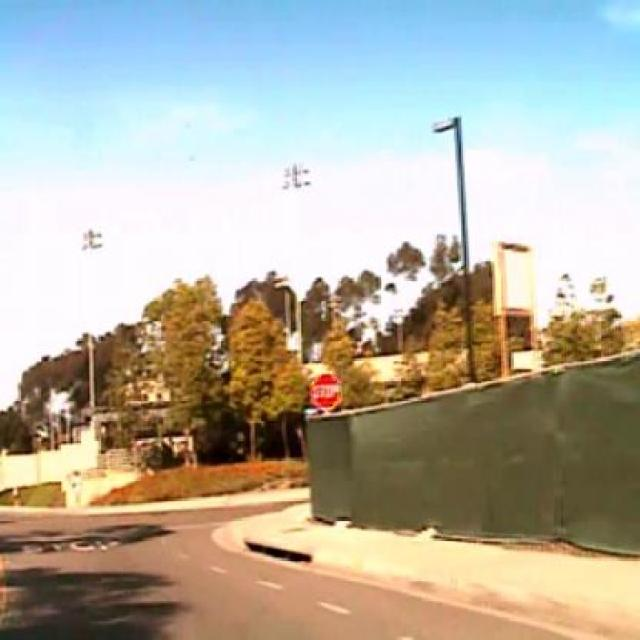stop: (310, 372, 340, 411)
